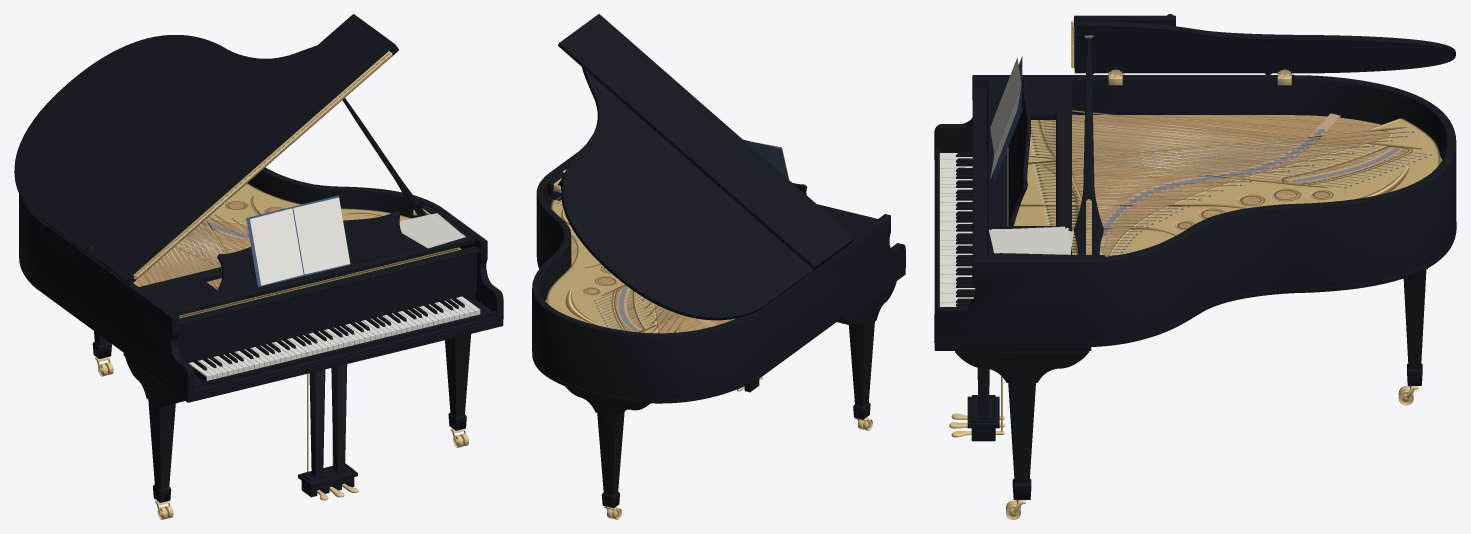
The model's file is piano.glb.
The picture shows the model from 3 angles, left to right: view 1: azimuth 30°, elevation 25°; view 2: azimuth 150°, elevation 25°; view 3: azimuth 270°, elevation 25°; orthographic projection. The views are drawn at different scales.
Parts seen in each view (by area): view 1: Large Lid Section, Small Lid Section, Piano Outer Body, Fall Board, Music Shelf, Strings Panel, White Keys, Music Rack, Soundboard, Key Slip, Piano Base, Book Right Page (+12 smaller); view 2: Large Lid Section, Piano Outer Body, Small Lid Section, Strings Panel, Middle Main Leg, Left Main Leg, Piano Base, Soundboard, Music Shelf, Book Cover; view 3: Piano Outer Body, Strings Panel, Soundboard, Large Lid Section, Music Shelf, Right Main Leg, Piano Base, White Keys, Fall Board, Lid Support Prop, Black Keys, Music Rack (+8 smaller).
Boxes of the visible parts, x1,y1,x2,y2 form: Large Lid Section: (14, 35, 398, 285); Small Lid Section: (84, 14, 396, 282); Piano Outer Body: (19, 167, 503, 396); Fall Board: (177, 246, 481, 362); Music Shelf: (139, 204, 474, 315); Strings Panel: (143, 183, 461, 318); White Keys: (188, 296, 480, 380); Music Rack: (217, 211, 409, 292); Soundboard: (133, 203, 280, 289); Key Slip: (194, 311, 496, 394); Piano Base: (19, 260, 503, 402); Book Right Page: (293, 197, 350, 274); Large Lid Section: (561, 67, 852, 320); Piano Outer Body: (532, 152, 905, 399); Small Lid Section: (558, 14, 854, 269); Strings Panel: (546, 190, 717, 333); Middle Main Leg: (565, 386, 650, 508); Left Main Leg: (837, 281, 896, 419); Piano Base: (532, 260, 905, 403); Soundboard: (545, 199, 735, 333); Music Shelf: (547, 166, 877, 236); Book Cover: (743, 139, 788, 179); Piano Outer Body: (934, 75, 1456, 342); Strings Panel: (1007, 110, 1440, 256); Soundboard: (1040, 115, 1441, 256); Large Lid Section: (1074, 21, 1455, 73); Music Shelf: (987, 79, 1105, 257); Right Main Leg: (955, 351, 1089, 499); Piano Base: (934, 160, 1456, 350); White Keys: (939, 153, 975, 306); Fall Board: (972, 88, 986, 257); Lid Support Prop: (1074, 38, 1103, 254); Black Keys: (956, 153, 975, 306); Music Rack: (1008, 78, 1030, 225).
Bounding box in the file's own units: 1.52 × 1.79 × 1.77.
11 materials, 2 textured.
